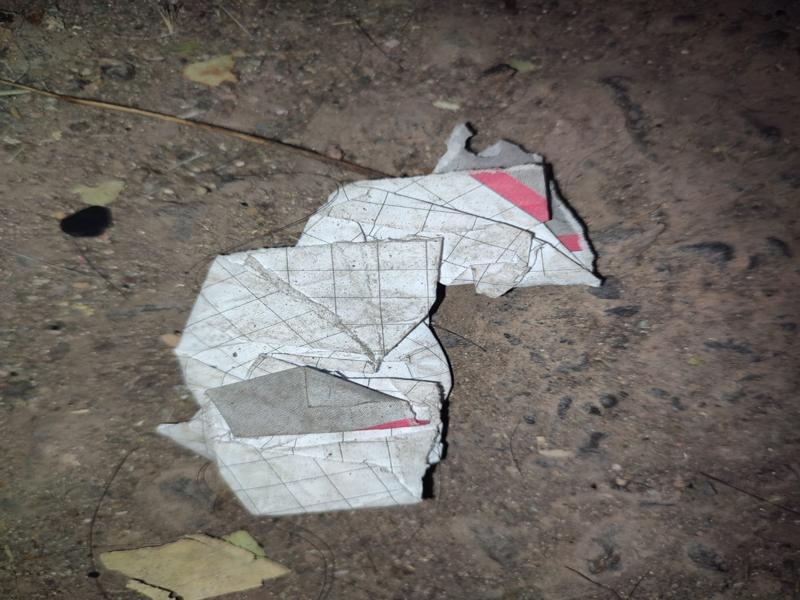papel: (152, 123, 604, 518)
